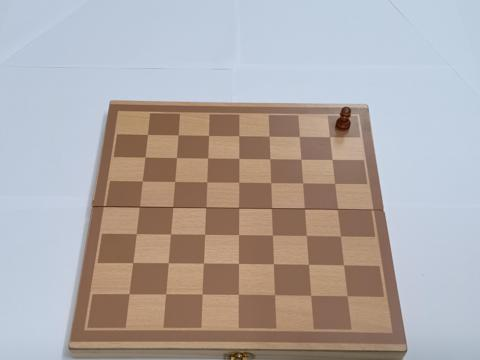xcorner: (199, 230, 209, 240), (233, 259, 243, 269), (269, 290, 279, 300), (294, 132, 304, 142), (299, 204, 309, 214), (301, 231, 311, 241), (329, 179, 339, 189), (338, 260, 348, 270), (143, 131, 153, 140), (141, 153, 150, 163), (138, 177, 147, 187), (134, 203, 144, 212), (131, 230, 141, 239), (124, 289, 133, 299), (165, 230, 175, 239), (160, 290, 170, 299), (204, 131, 213, 141), (201, 203, 210, 213), (198, 259, 207, 269), (234, 154, 243, 164), (234, 178, 243, 188), (233, 231, 243, 240), (233, 290, 242, 300), (264, 132, 274, 141), (266, 178, 275, 188), (266, 204, 276, 213), (267, 231, 277, 240), (268, 260, 278, 269), (303, 260, 313, 269), (305, 291, 315, 300), (324, 133, 334, 142), (327, 155, 336, 165), (332, 205, 342, 214), (335, 232, 345, 241), (128, 259, 137, 268), (174, 131, 183, 140), (172, 154, 181, 163), (170, 178, 179, 187), (168, 203, 177, 212), (163, 259, 172, 268), (203, 154, 212, 163), (202, 178, 211, 187), (197, 290, 206, 299), (234, 132, 243, 141), (234, 204, 243, 213), (265, 155, 274, 164), (296, 155, 305, 164), (298, 179, 307, 188), (342, 291, 351, 300)
